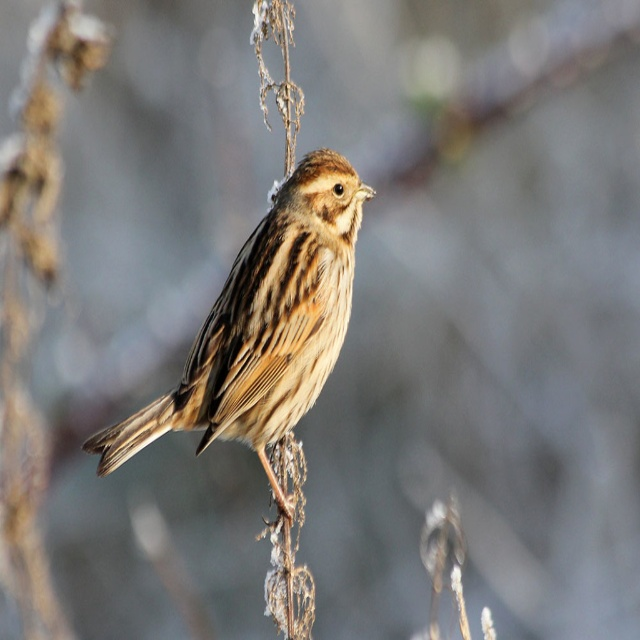Sparrow: (80, 145, 378, 533)
